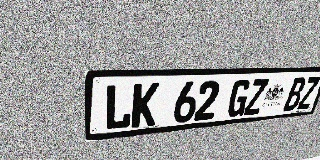2: (194, 80, 221, 121)
6: (172, 81, 200, 123)
B: (283, 77, 307, 111)
G: (226, 79, 252, 117)
K: (131, 83, 159, 128)
L: (104, 83, 133, 131)
Z: (243, 79, 269, 115), (297, 77, 320, 110)
